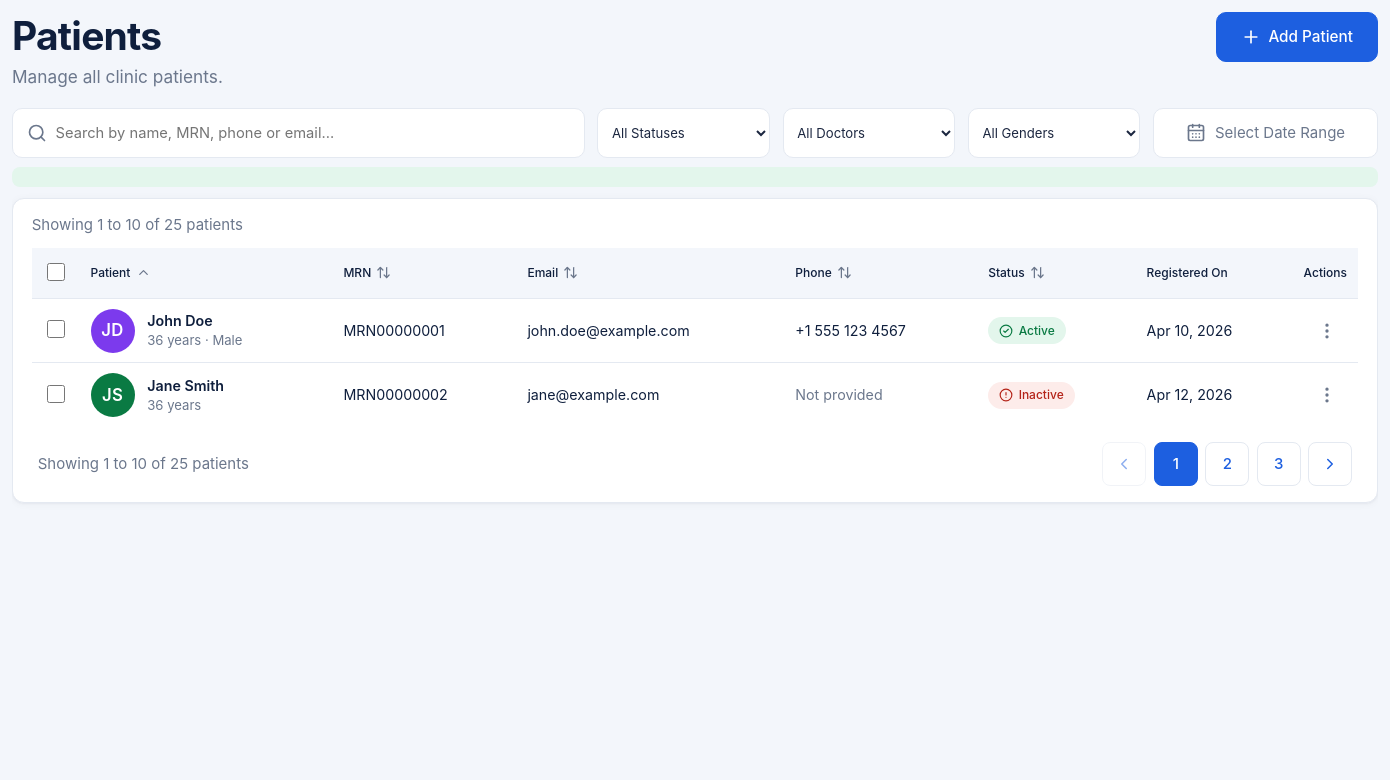
Patients › clears the selection when the page changes
Click the checkbox named "Select John Doe" at (56, 329), box x1=47 y1=320 x2=65 y2=338
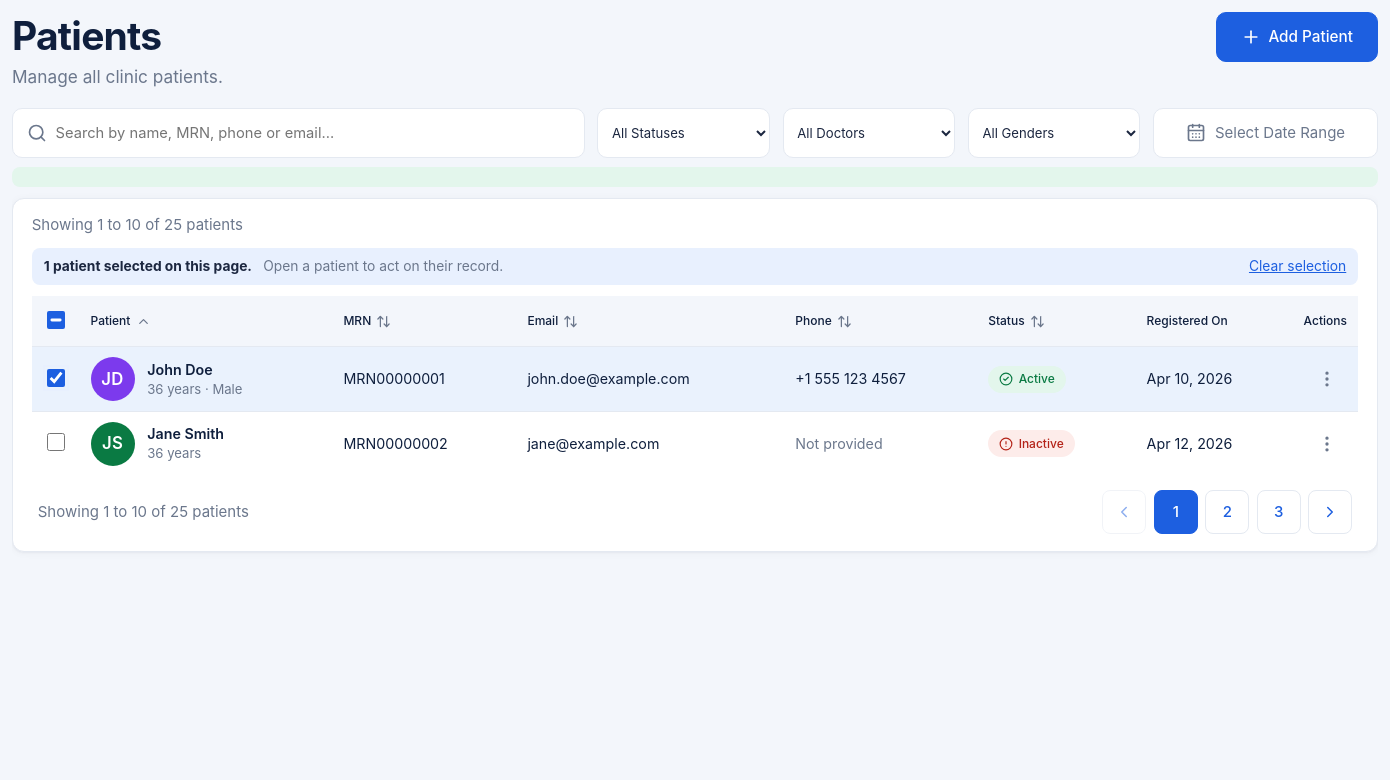
Click the button named "Next page" at (1330, 512), box x1=1308 y1=490 x2=1352 y2=534
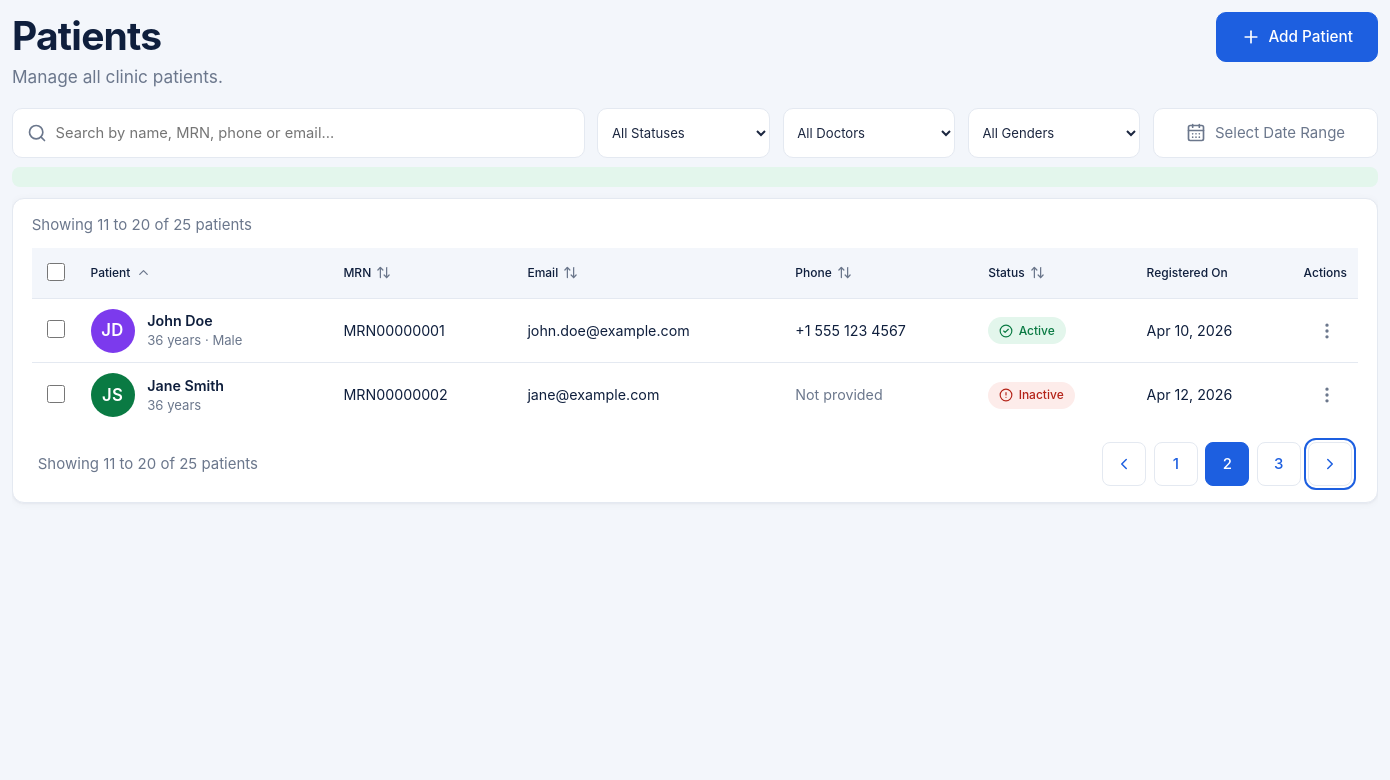
Expected: the text "selected on this page" is gone
